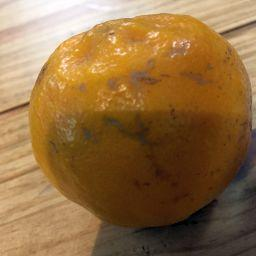Unripe: (26, 12, 255, 230)
